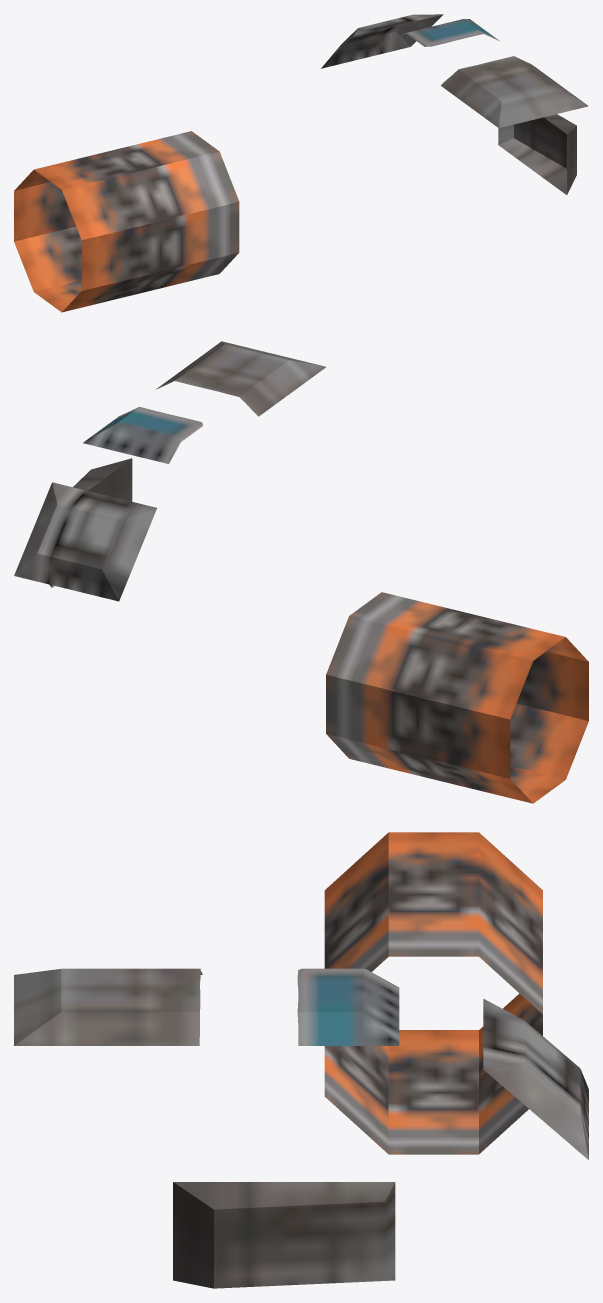
The model's file is Goblins-UVFlip.obj.
3 renders of one model, top to bottom at view 1: azimuth 30°, elevation 25°; view 2: azimuth 150°, elevation 25°; view 3: azimuth 270°, elevation 25°, orthographic. The views are drawn at different scales.
Visible parts, largest first — view 1: PulsarGunUV; view 2: PulsarGunUV; view 3: PulsarGunUV.
Part boxes in pixels (x1,y1,x2,y2): PulsarGunUV: [14, 14, 588, 312]; PulsarGunUV: [14, 341, 588, 803]; PulsarGunUV: [14, 832, 588, 1288].
Bounding box in the file's own units: 7.83 × 3.3 × 5.24.
